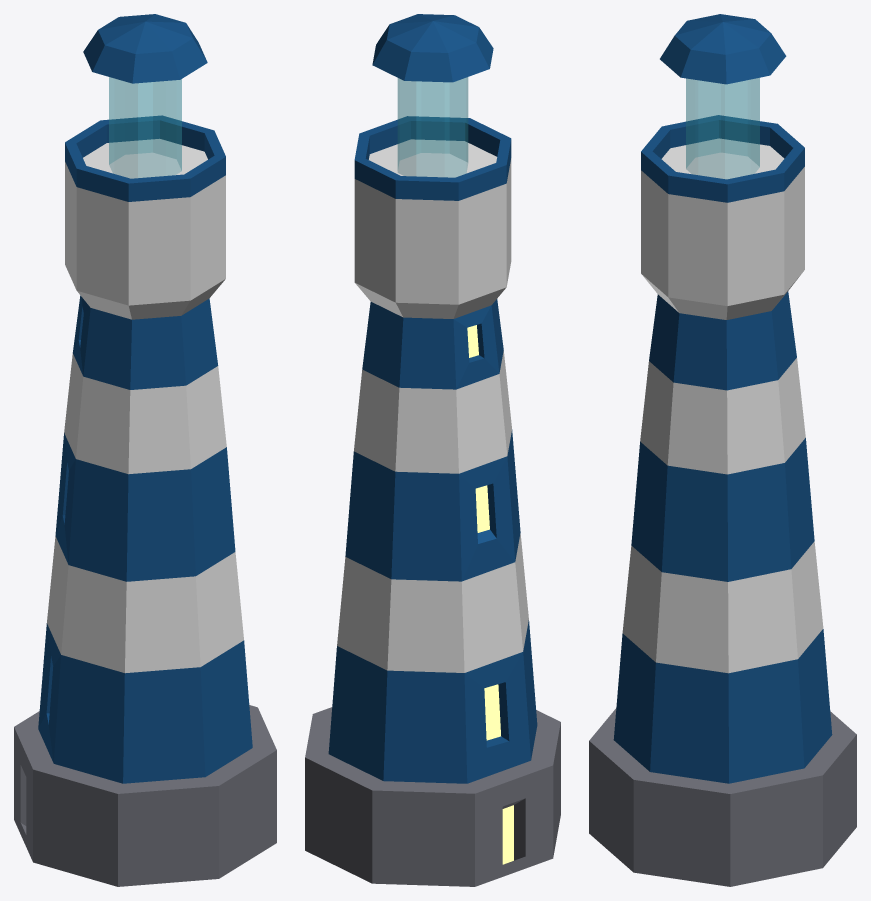
File: blue_lighthouse.fbx
3 renders of one model, left to right at view 1: azimuth 30°, elevation 25°; view 2: azimuth 150°, elevation 25°; view 3: azimuth 270°, elevation 25°, orthographic.
Parts seen in each view (by area): view 1: phare bleu; view 2: phare bleu; view 3: phare bleu.
Boxes of the visible parts, x1=… form: phare bleu: x1=14, y1=14, x2=276, y2=886; phare bleu: x1=305, y1=14, x2=560, y2=886; phare bleu: x1=589, y1=14, x2=856, y2=886.
Size of the model in its own units: 195 by 648 by 195.
